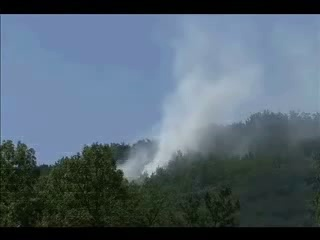smoke: (172, 14, 291, 151), (108, 99, 194, 184)
